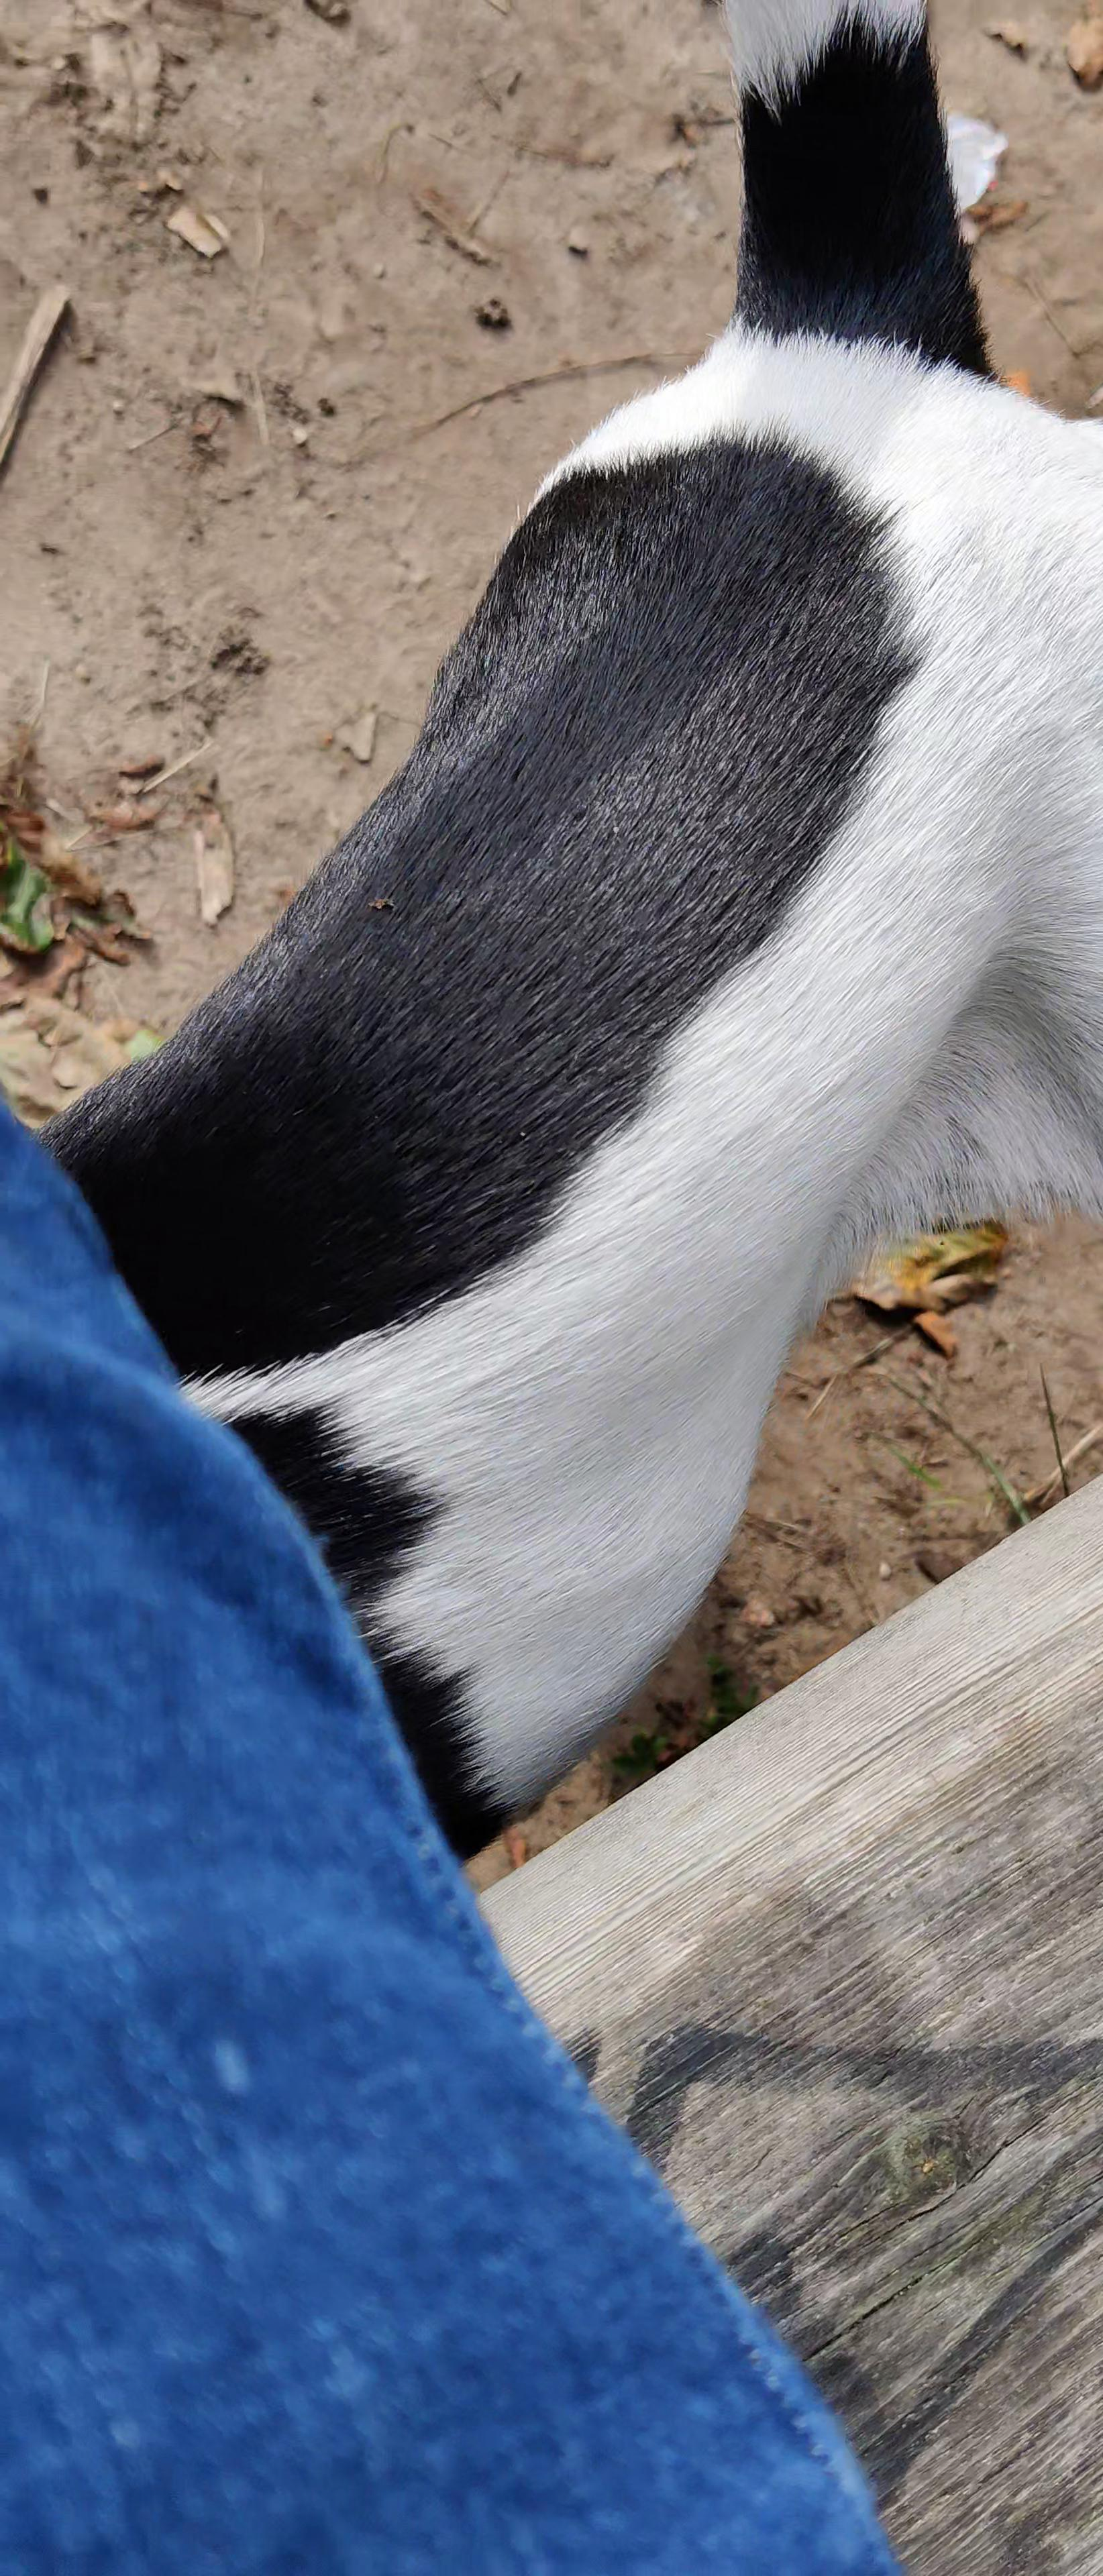Dog: (35, 0, 1103, 1858), (39, 1715, 85, 1879)
